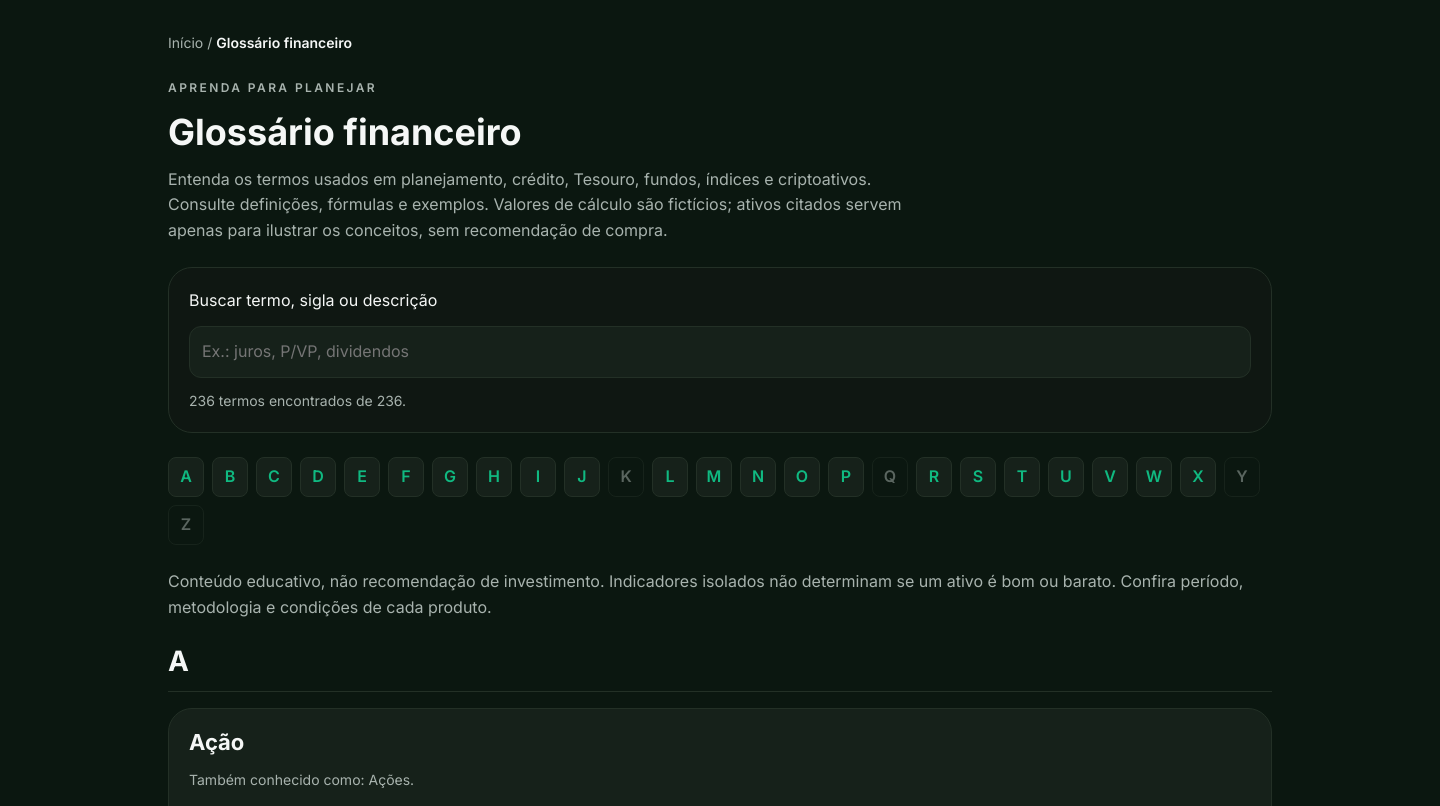
Glossary › filters by an acronym and updates the letter ruler
Type "LPA" into the search field labelled "Buscar termo, sigla ou descrição". click: (720, 352)
box: [189,326,1251,378]
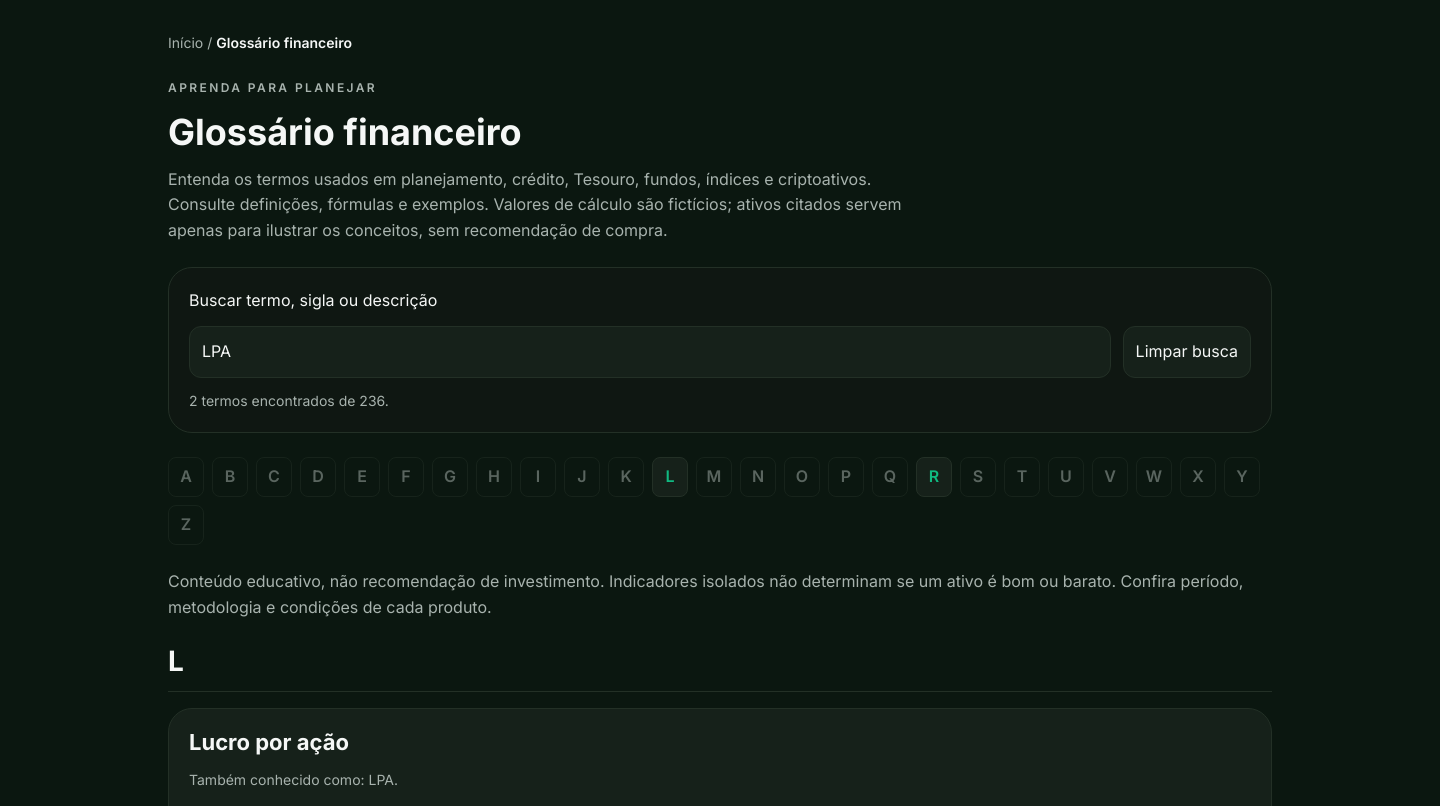
Expected: the heading "Lucro por ação" is shown, [189,729,349,755]
Expected: the message named "Resultados da busca" shows "2 termos encontrados", [189,392,389,408]
